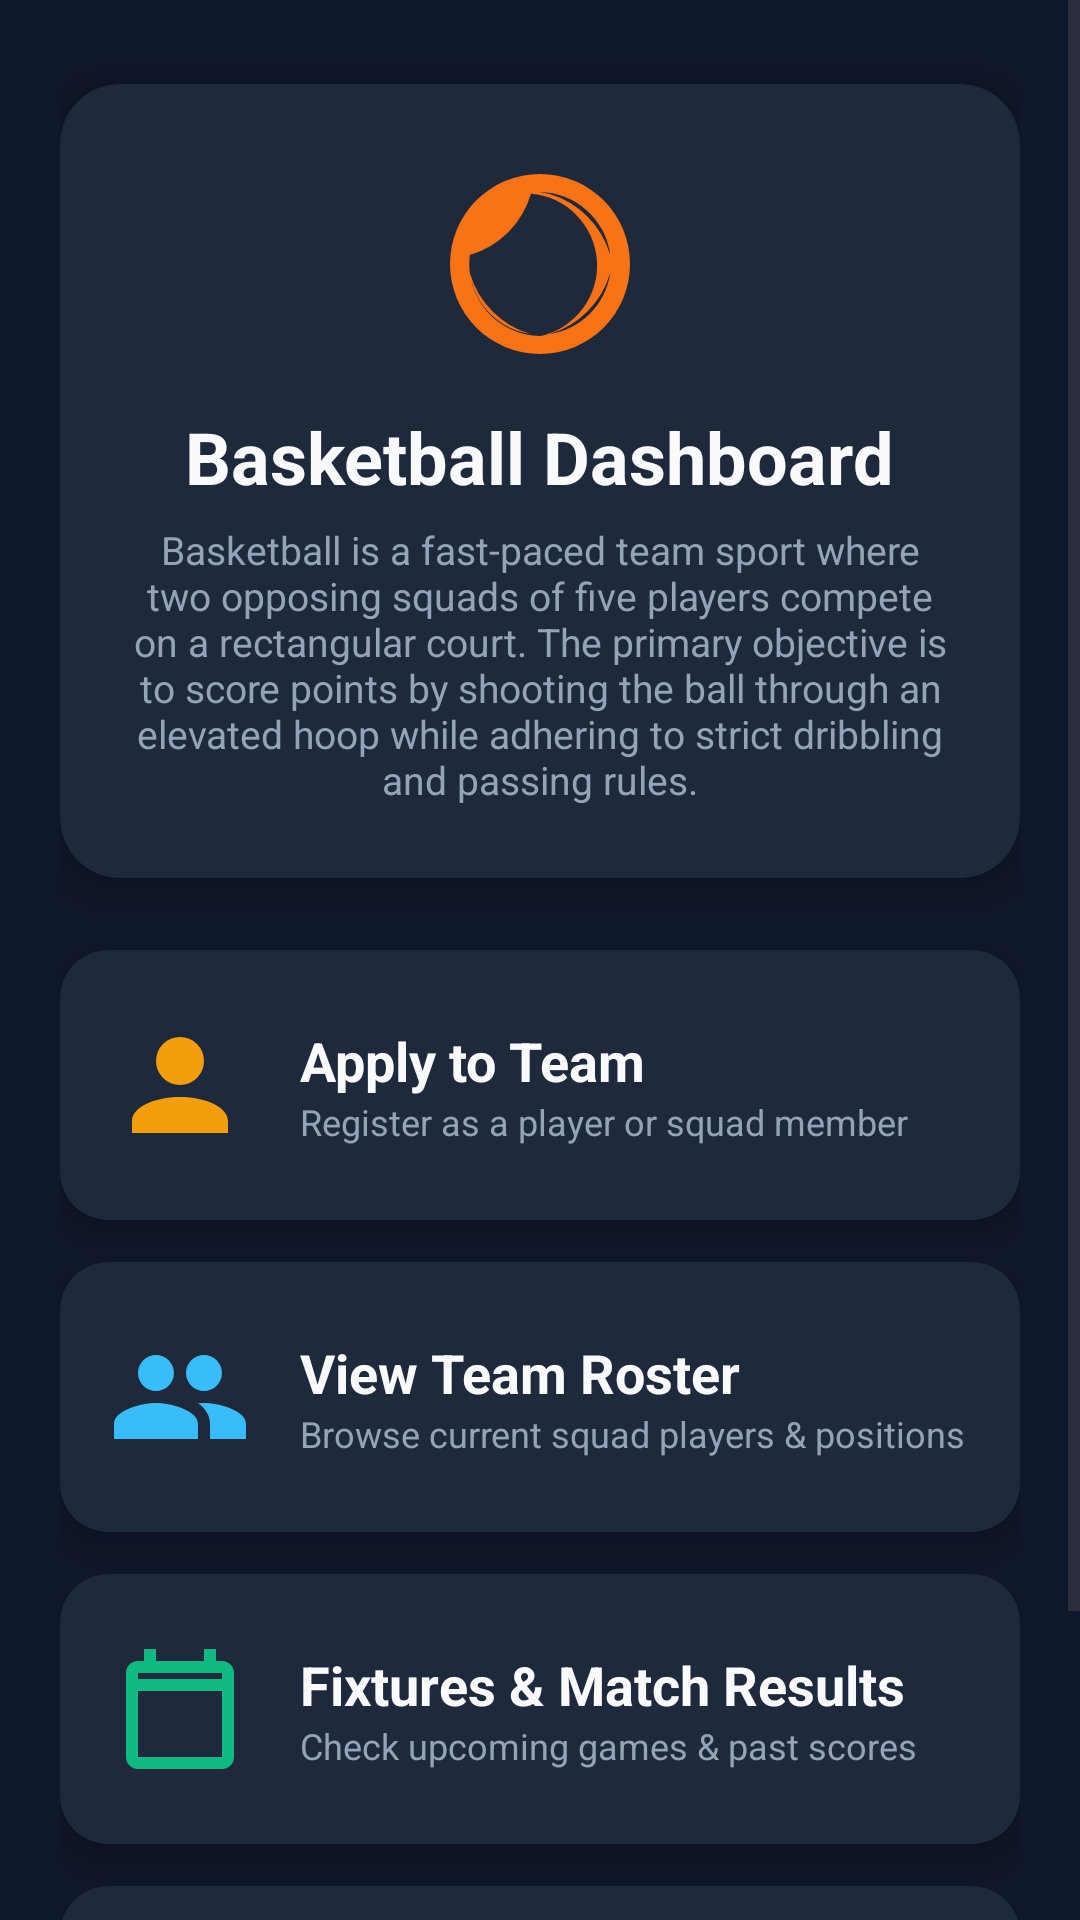

Locate icon controls on the screen. Image size 1080w x 1920h, boxes as [x1=x1, y1=y1, x2=x2, y2=y2].
calendar: [x1=126, y1=1649, x2=234, y2=1769]
person: [x1=132, y1=1037, x2=228, y2=1133]
